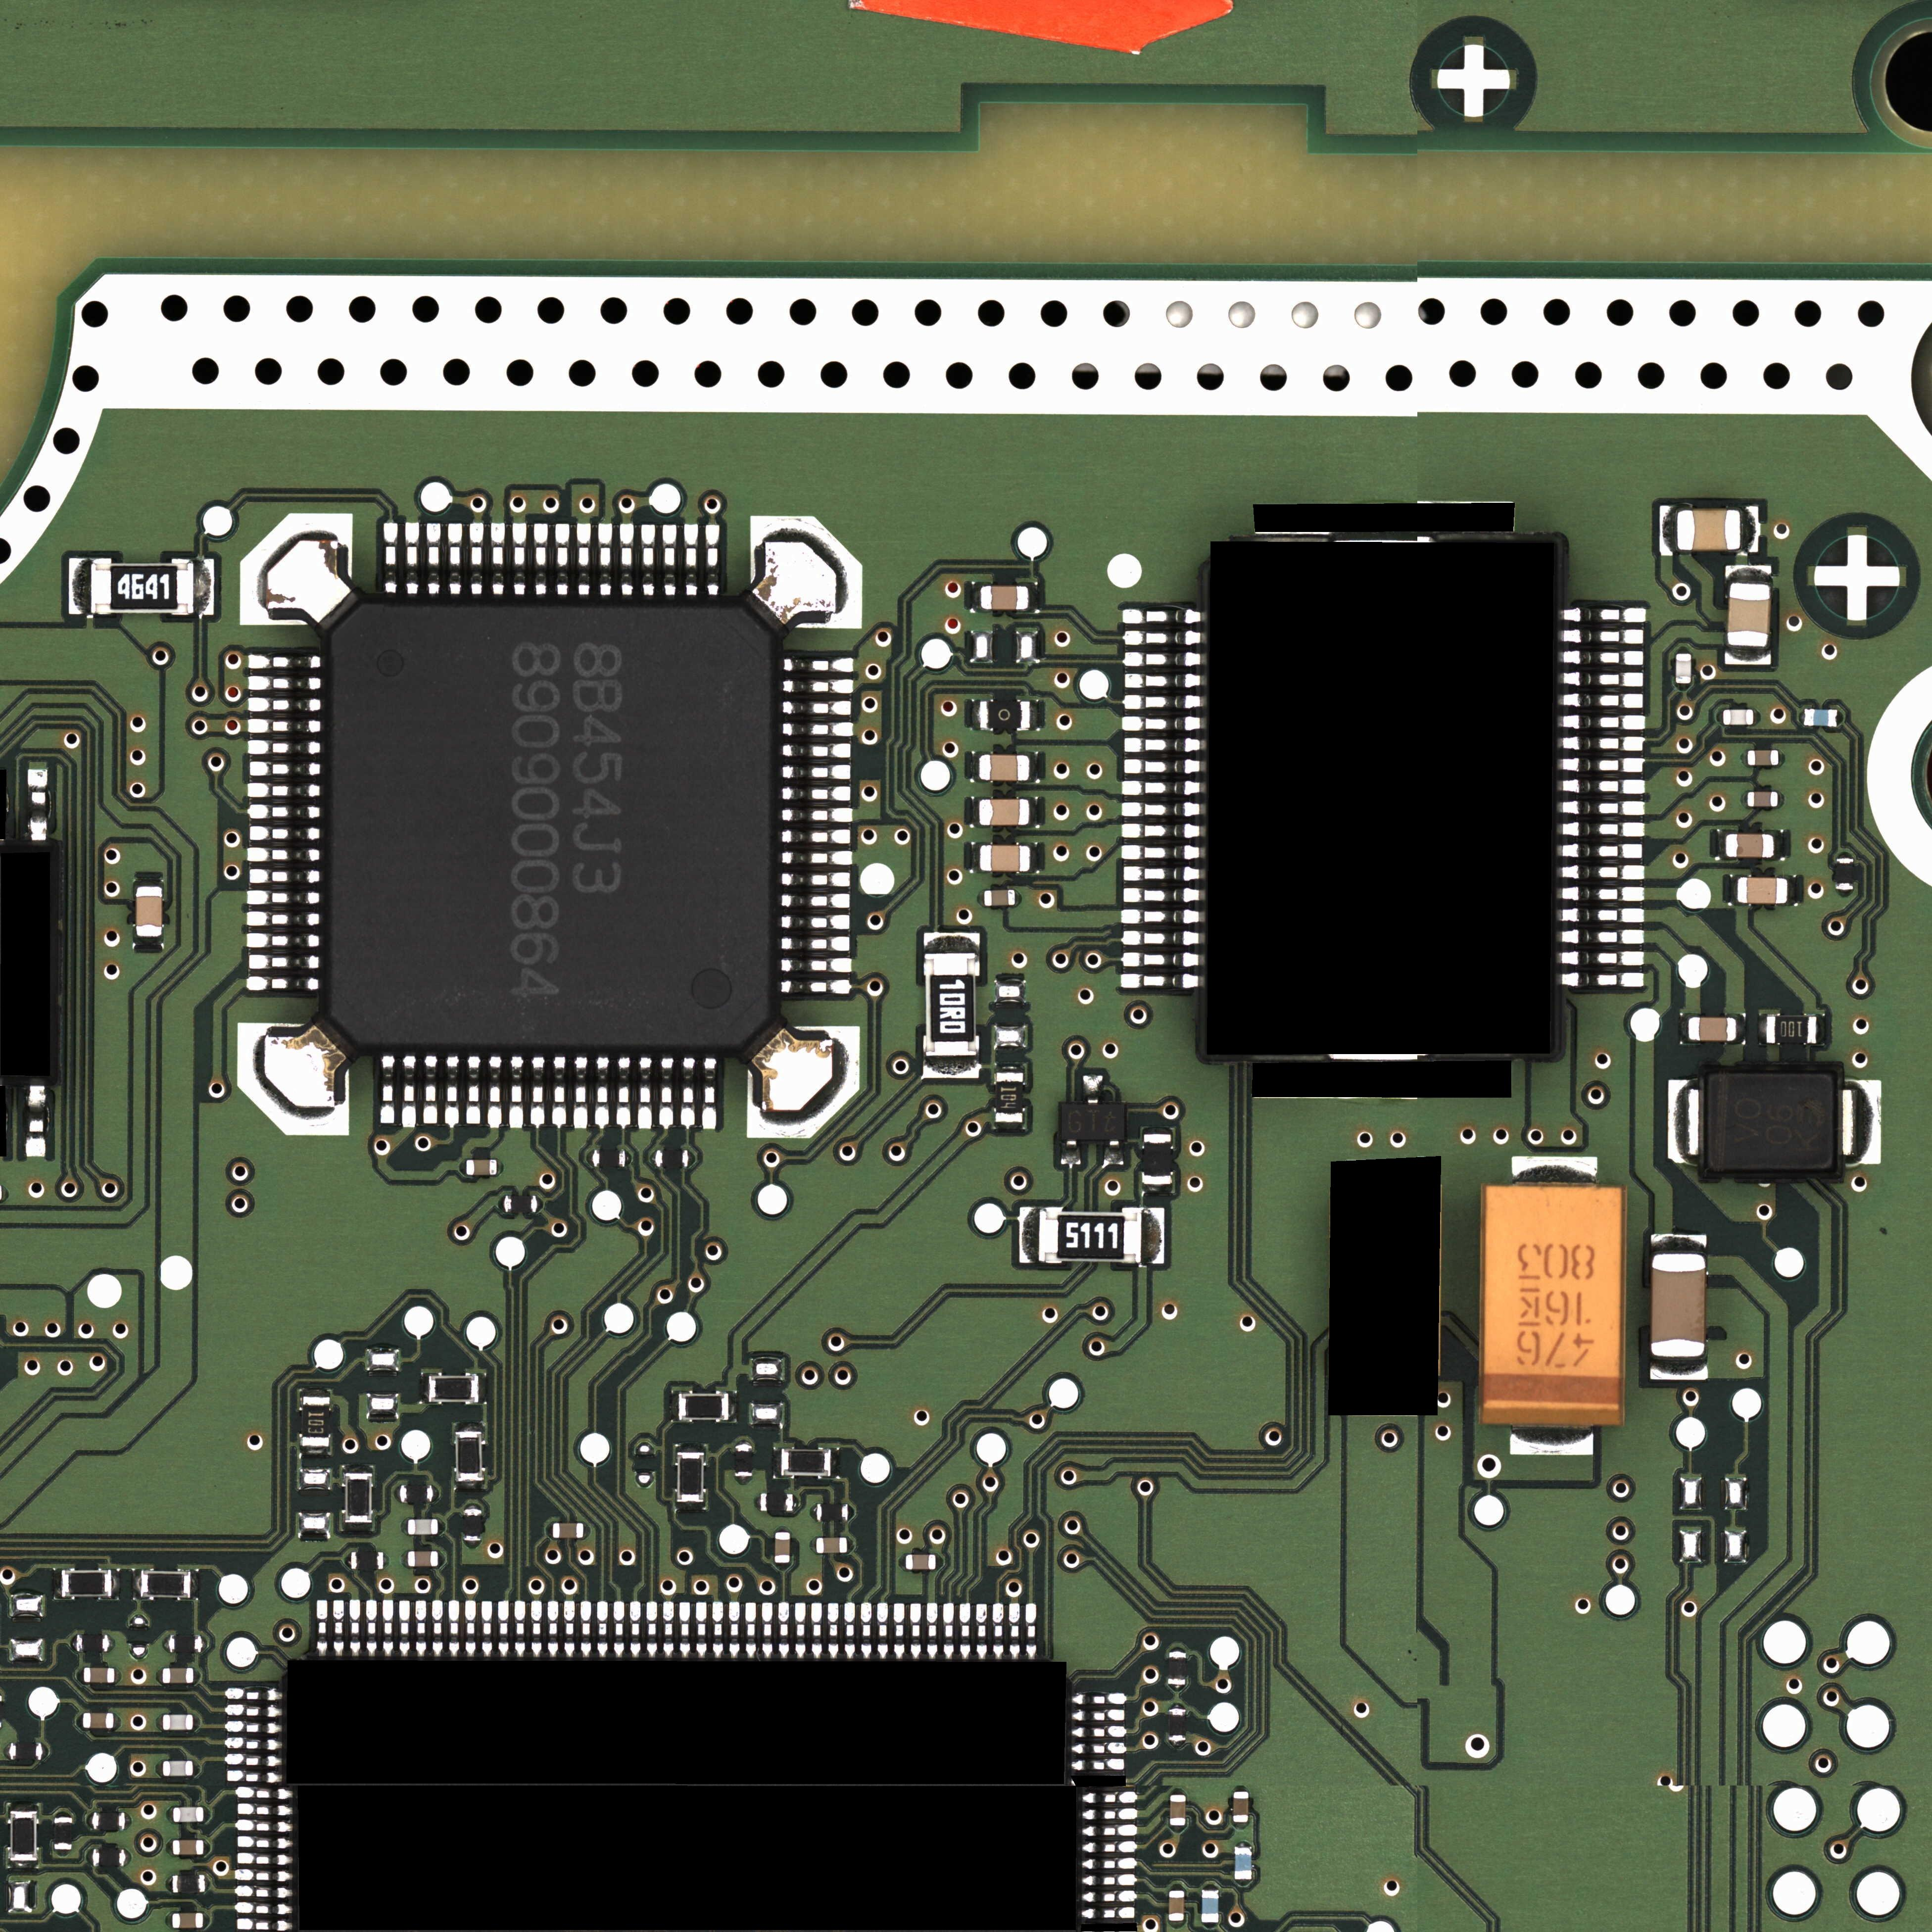Package: (327, 598, 773, 1049), (1483, 1185, 1622, 1424), (1704, 1072, 1836, 1173), (1651, 1254, 1706, 1357), (92, 561, 193, 616), (925, 954, 978, 1054), (1040, 1210, 1141, 1261), (1727, 584, 1769, 648), (1675, 510, 1741, 550), (1060, 1104, 1125, 1139), (980, 701, 1030, 731), (1766, 1016, 1817, 1044), (1143, 1134, 1171, 1184), (978, 800, 1030, 826), (978, 754, 1030, 780), (136, 886, 163, 936), (303, 1396, 329, 1445), (678, 1453, 704, 1502), (142, 1571, 191, 1598), (1737, 878, 1787, 904), (980, 846, 1030, 872), (996, 1072, 1023, 1122), (430, 1375, 478, 1401), (782, 1449, 830, 1476), (345, 1474, 372, 1522), (11, 1812, 37, 1859), (679, 1394, 729, 1419), (456, 1431, 481, 1481), (62, 1571, 111, 1596), (1725, 833, 1775, 858), (980, 586, 1028, 610), (1688, 1017, 1736, 1042), (172, 1874, 205, 1893), (53, 1817, 73, 1849), (1835, 858, 1854, 890), (9, 1743, 42, 1760), (350, 1552, 384, 1569), (168, 1635, 202, 1652), (655, 1150, 688, 1168), (593, 1150, 626, 1168), (1168, 1651, 1185, 1684), (1201, 1890, 1219, 1923), (94, 1847, 124, 1867), (464, 1509, 481, 1541), (400, 1484, 432, 1502), (92, 1812, 124, 1829), (76, 1635, 108, 1652), (504, 1194, 536, 1212), (761, 1493, 793, 1511), (817, 1504, 849, 1522), (1805, 709, 1836, 727), (1168, 1709, 1185, 1741), (1235, 1847, 1253, 1879), (163, 1667, 193, 1684), (407, 1550, 437, 1568), (407, 1518, 437, 1536), (734, 1445, 752, 1476), (83, 1667, 115, 1683), (172, 1913, 203, 1928), (465, 1159, 497, 1175), (816, 1537, 847, 1553), (984, 890, 1016, 906), (1169, 1794, 1185, 1826), (163, 1760, 193, 1776), (163, 1714, 193, 1730), (83, 1713, 113, 1729), (906, 1553, 936, 1569), (775, 1532, 791, 1562), (173, 1840, 203, 1856), (173, 1806, 203, 1822), (1723, 709, 1753, 725), (1675, 653, 1691, 683), (1748, 750, 1778, 766), (1748, 791, 1778, 807), (1233, 1792, 1249, 1822), (552, 1523, 584, 1537), (1169, 1891, 1184, 1921)
Solder: (747, 1024, 863, 1141), (239, 510, 354, 626), (235, 1023, 352, 1138), (748, 515, 865, 630), (1838, 1081, 1881, 1164), (1668, 1079, 1706, 1162), (1511, 1428, 1594, 1456), (1513, 1155, 1598, 1182), (23, 1085, 46, 1157), (28, 768, 48, 840), (248, 803, 322, 821), (1651, 1357, 1707, 1380), (782, 656, 855, 674), (1123, 630, 1203, 646), (1123, 672, 1203, 688), (1122, 694, 1201, 709), (1122, 844, 1201, 860), (1122, 931, 1201, 947), (1120, 909, 1200, 925), (69, 557, 90, 616), (1143, 1207, 1164, 1265), (1123, 609, 1201, 625), (1123, 651, 1201, 667), (1123, 715, 1201, 731), (1123, 757, 1201, 773), (1122, 865, 1200, 881), (1122, 886, 1200, 902), (1122, 823, 1200, 839), (1122, 780, 1200, 796), (1122, 952, 1200, 968), (1122, 973, 1200, 989), (246, 718, 322, 734), (246, 782, 322, 798), (246, 911, 322, 927), (924, 1056, 980, 1077), (248, 676, 322, 692), (248, 655, 322, 671), (248, 740, 322, 755), (246, 954, 320, 970), (248, 869, 322, 885), (248, 826, 322, 842), (248, 761, 322, 777), (246, 932, 320, 948), (248, 697, 322, 713), (490, 522, 506, 596), (469, 522, 485, 596), (511, 522, 527, 596), (619, 522, 635, 596), (533, 522, 548, 596), (640, 524, 656, 598), (1560, 630, 1644, 644), (1560, 694, 1644, 708), (1560, 672, 1644, 686), (248, 890, 320, 906), (248, 847, 320, 863), (780, 764, 853, 780), (780, 828, 853, 844), (780, 807, 853, 823), (780, 851, 853, 867), (780, 786, 853, 801), (782, 679, 855, 695), (683, 524, 699, 596), (662, 524, 678, 596), (782, 722, 855, 738), (778, 957, 851, 973), (1562, 715, 1644, 729), (1562, 736, 1644, 750), (1564, 865, 1645, 879), (1562, 844, 1644, 858), (1562, 929, 1644, 943), (465, 1056, 481, 1127), (782, 701, 853, 717), (780, 915, 851, 931), (780, 893, 851, 909), (780, 872, 851, 888), (782, 743, 853, 759), (780, 936, 851, 952), (195, 559, 214, 616), (924, 932, 980, 952), (1019, 1207, 1039, 1263), (1651, 1233, 1707, 1253), (1123, 738, 1201, 752), (1123, 801, 1201, 816), (448, 522, 462, 596), (426, 522, 441, 596), (246, 977, 320, 991), (577, 522, 591, 596), (556, 522, 570, 596), (598, 522, 612, 596), (488, 1054, 502, 1129), (1560, 609, 1645, 621), (1562, 780, 1645, 793), (1562, 909, 1645, 922), (1562, 823, 1645, 835), (1562, 801, 1645, 814), (1560, 952, 1644, 964), (1560, 973, 1644, 985), (384, 522, 398, 594), (405, 522, 419, 594), (402, 1054, 416, 1127), (446, 1054, 460, 1127), (706, 524, 720, 596), (702, 1058, 717, 1131), (639, 1056, 653, 1129), (573, 1056, 587, 1129), (552, 1056, 566, 1129), (616, 1056, 630, 1129), (510, 1056, 524, 1129), (660, 1056, 674, 1129), (594, 1056, 609, 1129), (1562, 651, 1644, 663), (1562, 759, 1644, 771), (1562, 888, 1644, 901), (423, 1054, 437, 1125), (380, 1054, 395, 1125), (780, 980, 851, 994), (681, 1058, 695, 1129), (531, 1056, 545, 1127), (1725, 648, 1771, 665), (1660, 506, 1675, 556), (1725, 566, 1771, 582), (1743, 506, 1759, 552), (235, 1868, 292, 1881), (1070, 1759, 1125, 1771), (226, 1688, 281, 1700), (226, 1704, 281, 1716), (226, 1721, 281, 1734), (226, 1737, 281, 1750), (226, 1753, 281, 1766), (237, 1787, 292, 1799), (237, 1803, 292, 1815), (237, 1819, 292, 1831), (237, 1836, 292, 1849), (237, 1852, 292, 1865), (237, 1902, 292, 1914), (237, 1918, 292, 1930), (1081, 1890, 1134, 1902), (1083, 1792, 1136, 1805), (1083, 1808, 1136, 1821), (1083, 1824, 1136, 1836), (1072, 1709, 1125, 1721), (1072, 1693, 1125, 1706), (1083, 1858, 1134, 1870), (1026, 1603, 1037, 1660), (1008, 1603, 1019, 1660), (993, 1603, 1003, 1660), (977, 1603, 987, 1660), (614, 1601, 625, 1658), (596, 1601, 607, 1658), (317, 1599, 327, 1656), (235, 1886, 292, 1897), (961, 1603, 971, 1658), (943, 1603, 954, 1658), (927, 1603, 938, 1658), (911, 1603, 922, 1658), (893, 1603, 904, 1658), (878, 1603, 888, 1658), (862, 1603, 872, 1658), (844, 1603, 855, 1658), (828, 1603, 839, 1658), (812, 1603, 823, 1658), (796, 1603, 807, 1658), (778, 1603, 789, 1658), (713, 1603, 724, 1658), (695, 1603, 706, 1658), (679, 1603, 690, 1658), (663, 1603, 674, 1658), (646, 1603, 656, 1658), (630, 1603, 640, 1658), (745, 1603, 755, 1658), (729, 1603, 740, 1658), (763, 1603, 773, 1658), (580, 1601, 591, 1656), (564, 1601, 575, 1656), (547, 1601, 557, 1656), (531, 1601, 541, 1656), (515, 1601, 525, 1656), (499, 1601, 510, 1656), (481, 1601, 492, 1656), (465, 1601, 476, 1656), (416, 1601, 426, 1656), (400, 1601, 410, 1656), (382, 1601, 393, 1656), (366, 1601, 377, 1656), (350, 1601, 361, 1656), (333, 1601, 343, 1656), (449, 1601, 460, 1656), (432, 1601, 442, 1656), (226, 1771, 281, 1782), (1083, 1842, 1136, 1852), (1072, 1743, 1125, 1753), (1072, 1727, 1125, 1737), (1083, 1074, 1102, 1102), (1083, 1907, 1134, 1918), (1083, 1875, 1134, 1886), (1062, 1141, 1081, 1164), (1104, 1141, 1123, 1164), (299, 1445, 331, 1456), (1030, 699, 1040, 731), (1789, 874, 1799, 906), (968, 842, 978, 872), (970, 582, 980, 612), (1028, 582, 1039, 612), (1775, 830, 1785, 860), (993, 1122, 1026, 1131), (133, 936, 165, 945), (53, 1568, 62, 1599), (674, 1502, 706, 1511), (994, 1063, 1026, 1072), (1679, 1012, 1688, 1044), (1736, 1014, 1744, 1046), (9, 1861, 39, 1870), (343, 1523, 373, 1532), (970, 699, 978, 729), (729, 1391, 738, 1421), (676, 1444, 706, 1453), (773, 1447, 782, 1477), (1030, 796, 1039, 826), (1031, 842, 1040, 872), (970, 752, 978, 782), (1030, 752, 1039, 782), (970, 796, 978, 826), (1143, 1185, 1173, 1194), (1817, 1014, 1826, 1044), (134, 876, 163, 885), (455, 1422, 483, 1431), (479, 1373, 487, 1405), (299, 1389, 331, 1396), (421, 1373, 428, 1403), (133, 1569, 140, 1599), (455, 1483, 485, 1490), (343, 1465, 373, 1472), (191, 1569, 198, 1599), (111, 1569, 119, 1599), (9, 1803, 39, 1810), (671, 1391, 678, 1421), (832, 1447, 839, 1477), (1730, 874, 1737, 904), (1759, 1014, 1766, 1044), (1143, 1127, 1171, 1134), (1718, 830, 1725, 858), (203, 1806, 212, 1824), (113, 1713, 122, 1730), (734, 1477, 752, 1486), (193, 1714, 202, 1730), (1753, 709, 1762, 725), (1739, 791, 1748, 807), (85, 1847, 92, 1867), (464, 1541, 483, 1548), (977, 888, 984, 908), (1835, 890, 1854, 897), (195, 1667, 202, 1684), (439, 1518, 446, 1536), (163, 1635, 170, 1652), (126, 1849, 133, 1867), (205, 1875, 212, 1893), (110, 1635, 117, 1652), (87, 1812, 94, 1829), (165, 1875, 172, 1893), (126, 1812, 133, 1829), (55, 1810, 73, 1817), (345, 1552, 352, 1569), (936, 1553, 943, 1571), (584, 1522, 591, 1539), (793, 1493, 800, 1511), (1231, 1822, 1249, 1829), (1169, 1826, 1187, 1833), (1168, 1921, 1185, 1928), (1168, 1684, 1185, 1691), (1739, 750, 1748, 764), (1778, 791, 1785, 809), (1836, 709, 1844, 727), (2, 1185, 9, 1201), (203, 1840, 211, 1856), (193, 1760, 200, 1776), (156, 1668, 163, 1684), (115, 1668, 122, 1684), (400, 1552, 407, 1568), (165, 1913, 172, 1928), (465, 1502, 481, 1509), (166, 1806, 173, 1822), (203, 1913, 211, 1928), (156, 1760, 163, 1776), (156, 1714, 163, 1730), (439, 1552, 446, 1568), (76, 1713, 83, 1729), (688, 1150, 695, 1166), (625, 1150, 632, 1166), (736, 1438, 752, 1445), (847, 1504, 855, 1520), (1016, 890, 1023, 906), (1169, 1702, 1185, 1709), (1716, 709, 1723, 725), (1798, 709, 1805, 725), (1778, 750, 1785, 766), (1836, 851, 1852, 858), (53, 1851, 73, 1856), (395, 1484, 400, 1504), (1235, 1881, 1254, 1886), (775, 1525, 789, 1532), (402, 1518, 407, 1536), (433, 1484, 439, 1502), (166, 1838, 172, 1856), (384, 1552, 389, 1569), (4, 1743, 9, 1760), (42, 1743, 48, 1760), (547, 1522, 552, 1539), (755, 1493, 761, 1511), (810, 1504, 816, 1522), (1168, 1884, 1185, 1890), (1201, 1884, 1219, 1890), (1201, 1923, 1219, 1928), (1674, 685, 1691, 690), (460, 1159, 465, 1175), (497, 1159, 502, 1175), (497, 1196, 502, 1212), (71, 1635, 76, 1651), (78, 1667, 83, 1683), (202, 1635, 207, 1651), (651, 1150, 656, 1166), (587, 1150, 593, 1166), (538, 1196, 543, 1212), (775, 1564, 791, 1569), (899, 1553, 904, 1569), (810, 1537, 816, 1553), (847, 1537, 853, 1553), (1169, 1741, 1185, 1746), (1169, 1789, 1185, 1794), (1233, 1785, 1249, 1790), (1675, 648, 1691, 653), (1235, 1842, 1253, 1845), (1169, 1647, 1185, 1651)
